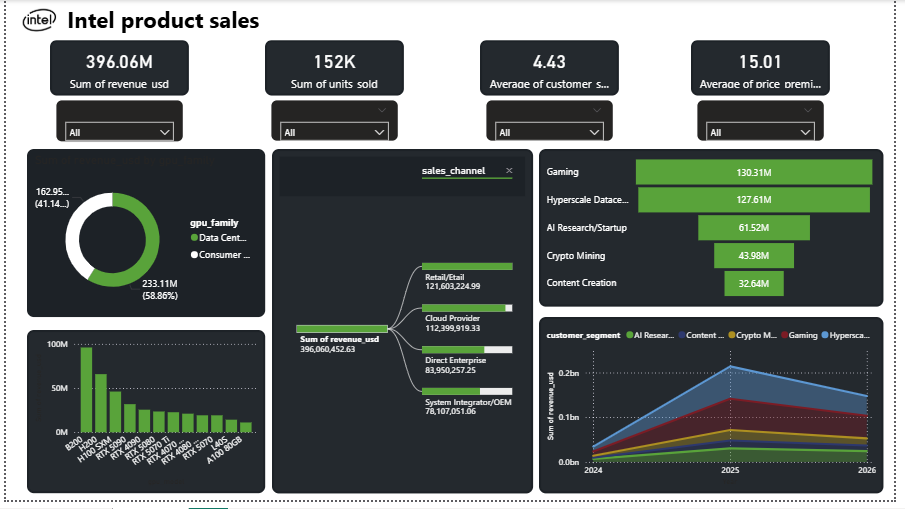

The dashboard page shown, as its layout file describes it:
{"tool":"powerbi","page":{"name":"Page 1","canvas":[1280,720],"ordinal":0},"visuals":[{"type":"card","fields":{"Values":["Avg(nvidia_gpu_sales_synthetic_2026.customer_satisfaction_score)"]},"box":[683.1,58.1,200,80],"z":0},{"type":"card","fields":{"Values":["Sum(nvidia_gpu_sales_synthetic_2026.units_sold)"]},"box":[372.8,58.1,200,80],"z":1000},{"type":"card","fields":{"Values":["Sum(nvidia_gpu_sales_synthetic_2026.revenue_usd)"]},"box":[63.8,58.1,200,80],"z":2000},{"type":"card","fields":{"Values":["Avg(nvidia_gpu_sales_synthetic_2026.price_premium_pct)"]},"box":[986.5,58.1,200,80],"z":3000},{"type":"donutChart","fields":{"Category":["nvidia_gpu_sales_synthetic_2026.gpu_family"],"Y":["Sum(nvidia_gpu_sales_synthetic_2026.revenue_usd)"]},"box":[29.8,214,343,242.4],"z":4000},{"type":"clusteredColumnChart","fields":{"Y":["Sum(nvidia_gpu_sales_synthetic_2026.revenue_usd)"],"Category":["nvidia_gpu_sales_synthetic_2026.gpu_model"]},"box":[29.8,474.8,343,235.3],"z":5000},{"type":"decompositionTreeVisual","fields":{"Analyze":["Sum(nvidia_gpu_sales_synthetic_2026.revenue_usd)"],"ExplainBy":["nvidia_gpu_sales_synthetic_2026.sales_channel"]},"box":[382.7,214,375.6,496.1],"z":6000},{"type":"funnel","fields":{"Category":["nvidia_gpu_sales_synthetic_2026.customer_segment"],"Y":["Sum(nvidia_gpu_sales_synthetic_2026.revenue_usd)"]},"box":[768.2,214,496.1,226.8],"z":7000},{"type":"stackedAreaChart","fields":{"Category":["nvidia_gpu_sales_synthetic_2026.sale_date.Variation.Date Hierarchy.Year","nvidia_gpu_sales_synthetic_2026.sale_date.Variation.Date Hierarchy.Quarter","nvidia_gpu_sales_synthetic_2026.sale_date.Variation.Date Hierarchy.Month","nvidia_gpu_sales_synthetic_2026.sale_date.Variation.Date Hierarchy.Day"],"Y":["Sum(nvidia_gpu_sales_synthetic_2026.revenue_usd)"],"Series":["nvidia_gpu_sales_synthetic_2026.customer_segment"]},"box":[768.2,456.4,496.1,253.7],"z":8000},{"type":"slicer","fields":{"Values":["nvidia_gpu_sales_synthetic_2026.sale_date"]},"box":[70.6,142,185.8,63.4],"z":9000},{"type":"slicer","fields":{"Values":["nvidia_gpu_sales_synthetic_2026.region"]},"box":[993.5,142,185.7,62.4],"z":10000},{"type":"slicer","fields":{"Values":["nvidia_gpu_sales_synthetic_2026.customer_segment"]},"box":[690.2,142,185.7,62.4],"z":11000},{"type":"slicer","fields":{"Values":["nvidia_gpu_sales_synthetic_2026.gpu_family"]},"box":[379.8,142,185.7,62.4],"z":12000},{"type":"textbox","box":[30.2,0,1249.9,57.6],"z":13000},{"type":"image","box":[10.1,0,76.3,57.6],"z":14000}]}

Visuals, with their boxes in screenshot pixels (x1, y1, x2, y2), scaled from the page's 1280x720 canvas onto the 905x509 screenshot:
card - Avg(nvidia_gpu_sales_synthetic_2026.customer_satisfaction_score): region(483, 41, 624, 98)
card - Sum(nvidia_gpu_sales_synthetic_2026.units_sold): region(264, 41, 405, 98)
card - Sum(nvidia_gpu_sales_synthetic_2026.revenue_usd): region(45, 41, 187, 98)
card - Avg(nvidia_gpu_sales_synthetic_2026.price_premium_pct): region(697, 41, 839, 98)
donutChart - nvidia_gpu_sales_synthetic_2026.gpu_family x Sum(nvidia_gpu_sales_synthetic_2026.revenue_usd): region(21, 151, 264, 323)
clusteredColumnChart - Sum(nvidia_gpu_sales_synthetic_2026.revenue_usd) x nvidia_gpu_sales_synthetic_2026.gpu_model: region(21, 336, 264, 502)
decompositionTreeVisual - Sum(nvidia_gpu_sales_synthetic_2026.revenue_usd) x nvidia_gpu_sales_synthetic_2026.sales_channel: region(271, 151, 536, 502)
funnel - nvidia_gpu_sales_synthetic_2026.customer_segment x Sum(nvidia_gpu_sales_synthetic_2026.revenue_usd): region(543, 151, 894, 312)
stackedAreaChart - nvidia_gpu_sales_synthetic_2026.sale_date.Variation.Date Hierarchy.Year x nvidia_gpu_sales_synthetic_2026.sale_date.Variation.Date Hierarchy.Quarter: region(543, 323, 894, 502)
slicer - nvidia_gpu_sales_synthetic_2026.sale_date: region(50, 100, 181, 145)
slicer - nvidia_gpu_sales_synthetic_2026.region: region(702, 100, 834, 144)
slicer - nvidia_gpu_sales_synthetic_2026.customer_segment: region(488, 100, 619, 144)
slicer - nvidia_gpu_sales_synthetic_2026.gpu_family: region(269, 100, 400, 144)
textbox: region(21, 0, 904, 41)
image: region(7, 0, 61, 41)
